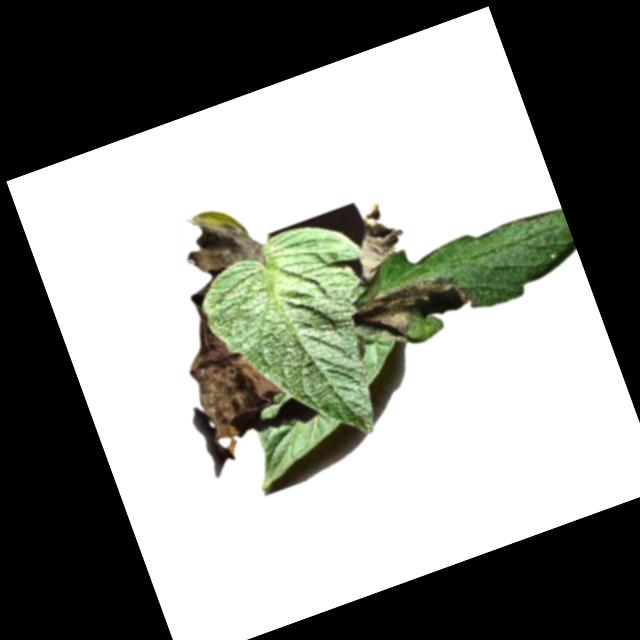Late_blight: (162, 273, 304, 478), (343, 261, 485, 356), (172, 195, 267, 286), (336, 197, 416, 287)
healthy: (187, 210, 418, 472)
